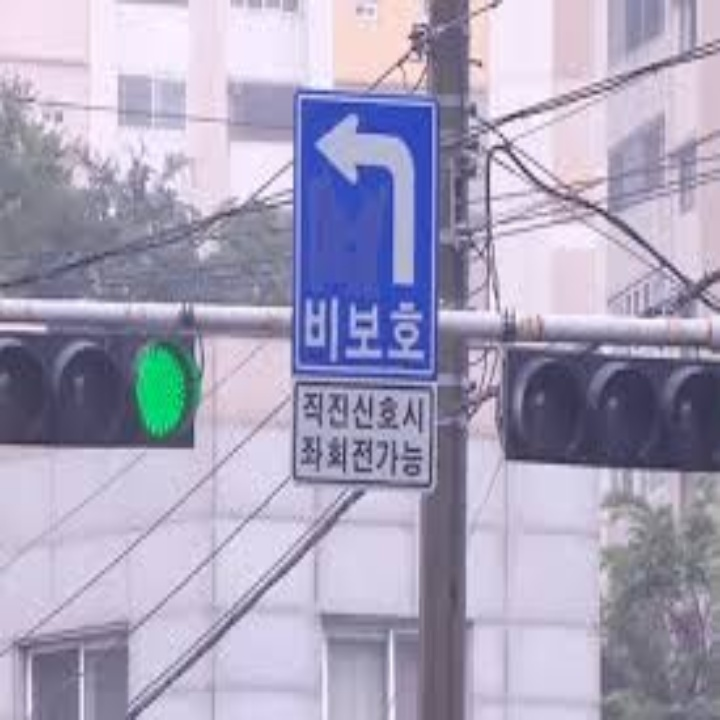left: (304, 109, 427, 294)
